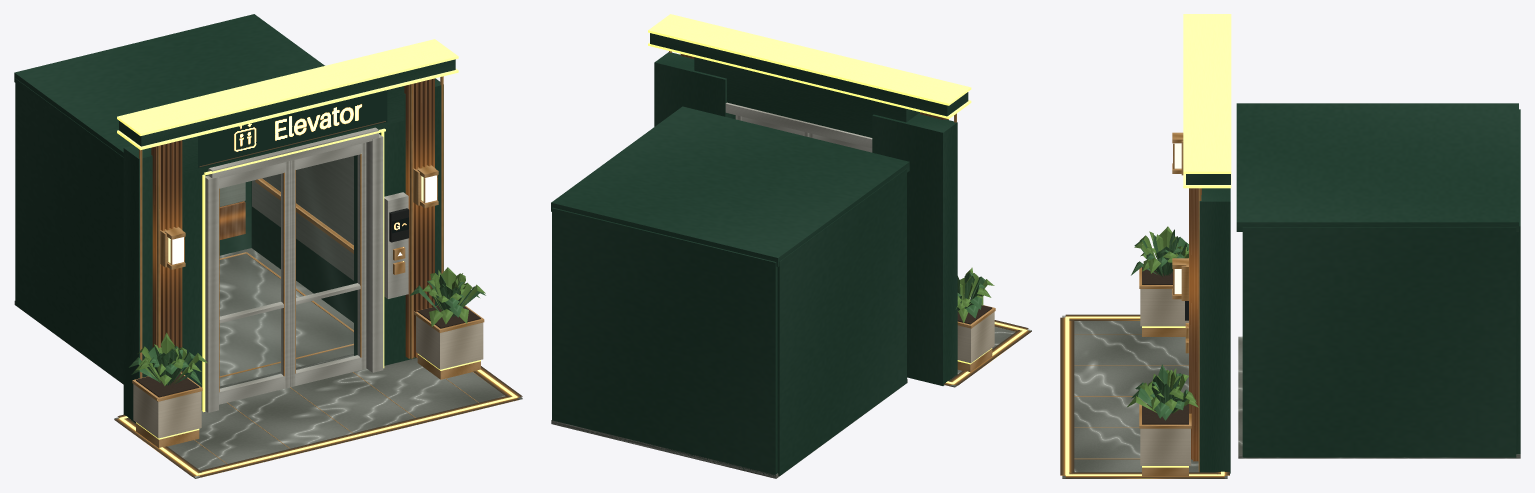
Rendered from balanced.glb.
3 views of the same model, side by side, from view 1: azimuth 30°, elevation 25°; view 2: azimuth 150°, elevation 25°; view 3: azimuth 270°, elevation 25° (orthographic). The views are drawn at different scales.
Parts seen in each view (by area): view 1: Cabin, Portal, MarbleInlay, GoldTrim, Planters, Pilasters, ElevatorSign, DoorRight, DoorLeft, Sconces; view 2: Cabin, Portal, GoldTrim, Planters, MarbleInlay; view 3: Cabin, MarbleInlay, Portal, Planters, GoldTrim, Pilasters, Sconces.
Boxes of the visible parts, box(x1,y1,x2,y2) form: Cabin: box(14, 14, 353, 388); Portal: box(119, 59, 455, 423); MarbleInlay: box(114, 357, 522, 478); GoldTrim: box(117, 39, 458, 412); Planters: box(129, 267, 485, 447); Pilasters: box(151, 78, 434, 372); ElevatorSign: box(198, 90, 387, 168); DoorRight: box(290, 142, 366, 387); DoorLeft: box(219, 161, 289, 404); Sconces: box(160, 165, 438, 269); Cabin: box(551, 106, 909, 478); Portal: box(650, 33, 968, 385); GoldTrim: box(648, 14, 971, 122); Planters: box(956, 267, 995, 372); MarbleInlay: box(943, 320, 1031, 387); Cabin: box(1236, 103, 1520, 458); MarbleInlay: box(1060, 314, 1229, 478); Portal: box(1185, 174, 1230, 473); Planters: box(1127, 226, 1198, 476); GoldTrim: box(1183, 14, 1231, 471); Pilasters: box(1189, 188, 1201, 461); Sconces: box(1172, 132, 1188, 300).
Bounding box in the file's own units: 4.57 × 3.81 × 5.19.
Materials: 2 (2 with a texture image).
